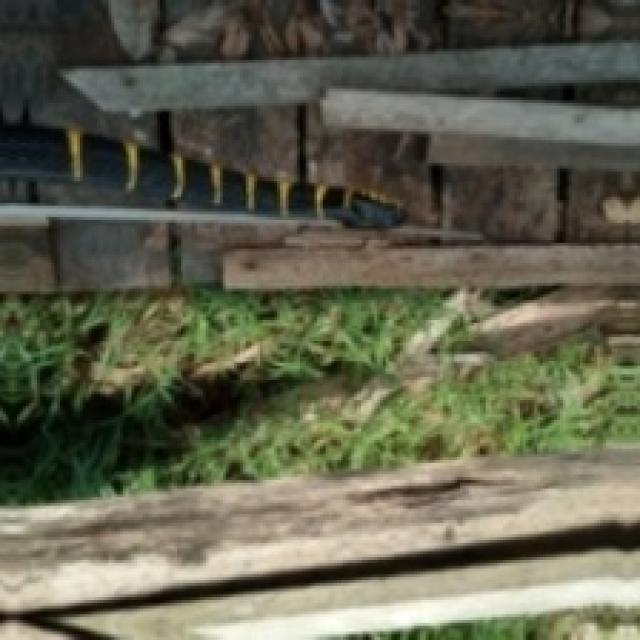mangrove cat snake: (0, 126, 405, 228)
